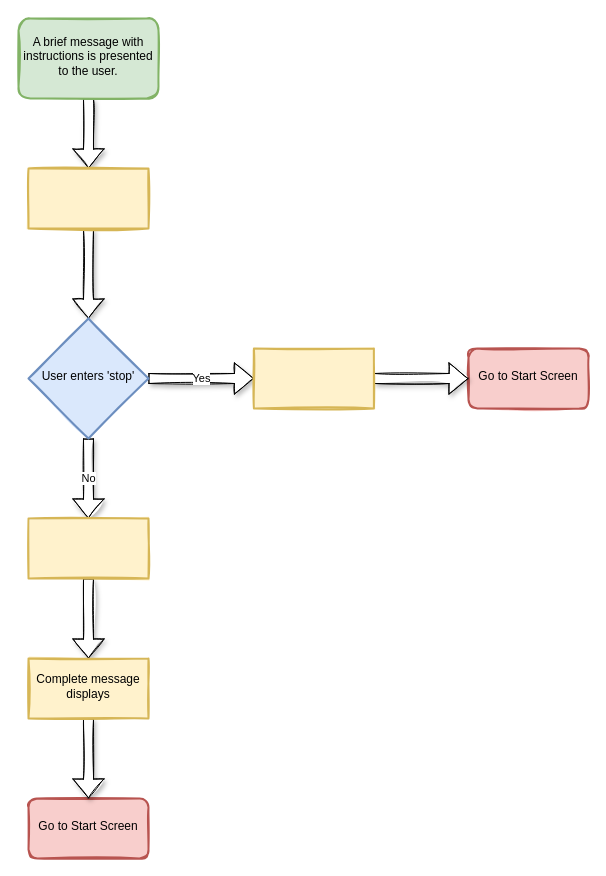
The diagram is 606 pixels wide and 876 high, and some of its shapes have lost their labels. The centre of each missing label's shape, as x and y in pixels:
Cancelling message displays: the point at 313,378
Generation completes: the point at 88,548
User is presented with instructions and must enter command.: the point at 88,198
